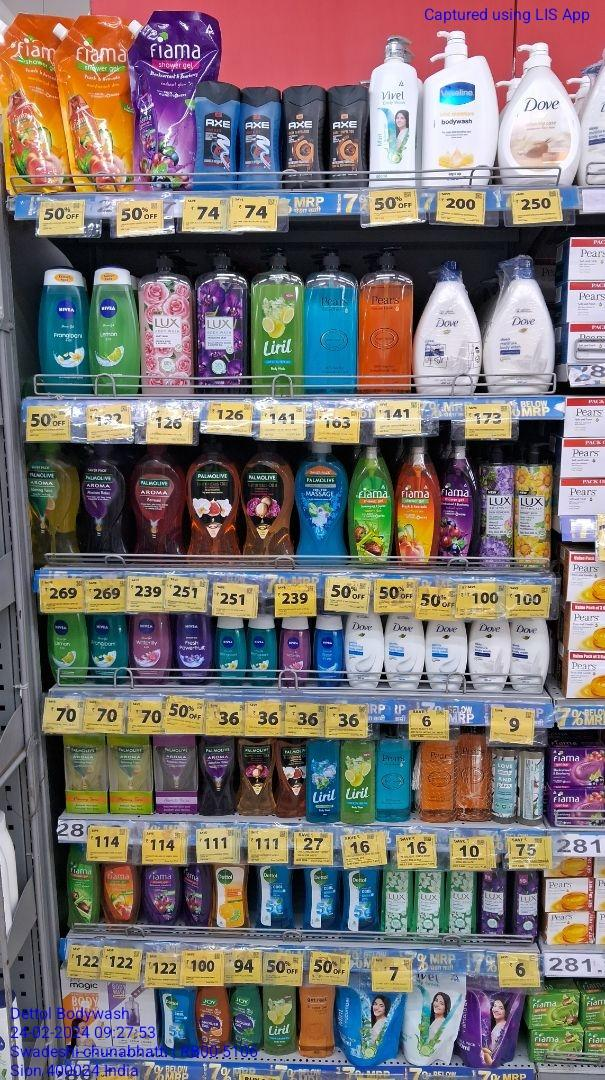Dettol_Bodywash_Cool: (157, 987, 200, 1058), (256, 861, 295, 929), (305, 864, 342, 931), (346, 866, 379, 931)
Dettol_Bodywash_Refresh: (212, 862, 252, 929)
Dove_Deep_Moisture_Body_Wash_250ML: (470, 617, 510, 692), (512, 616, 548, 695)
Dove_Gentle_Exfoliating_Body_Wash_250ML: (346, 611, 385, 691), (426, 620, 468, 692), (387, 612, 423, 692)
Fiama_Shower_Gel_Lemongrass_and_Jojoba_250ML: (65, 847, 100, 926)
Fiama_Shower_Gel_Peach_and_Avocado_250ML: (103, 863, 141, 924)
Get_Real_Shower_Gel_Moisturising_Glycerin_300ML: (298, 987, 336, 1058)
Joy_Shower_Gel_Mandarin_and_Lemongrass_250ML: (198, 987, 232, 1052)
Joy_Shower_Gel_Mint_and_Eucalyptus_250ML: (234, 987, 265, 1056)
Liril_Cooling_Mint_Body_Wash_250ML: (307, 736, 339, 822)
Liril_Lime_and_Tea_Tree_Oil_Body_Wash_250ML: (341, 738, 377, 826), (264, 987, 297, 1056)
Lux_Black_Orchid_Scent_and_Juniper_Oil_Body_Wash_245ML: (509, 871, 539, 938), (478, 870, 508, 934)
Lux_Body_Wash_Skin_Detox_Freesia_Scent_and_Alove_Vera_245ML: (443, 870, 476, 935), (414, 869, 444, 939), (383, 863, 411, 937)
Nivea_Shower_Gel_Frangipani_and_Oil_250ML: (35, 268, 87, 392), (89, 610, 128, 684), (212, 616, 250, 684), (250, 616, 279, 688)
Nivea_Shower_Gel_Fresh_Powerfruit_250ML: (172, 609, 212, 682)
Nivea_Shower_Gel_Lemon_and_Oil_250ML: (88, 265, 140, 396), (42, 612, 90, 688)
Nivea_Shower_Gel_Waterlily_and_Oil_250ML: (129, 612, 169, 682), (280, 615, 312, 680)
Palmolive_Aroma_Relax_250ML: (200, 738, 235, 818)
Palmolive_Luminous_Oils_Invigorating_Macadamia_Oil_With_Peony_250ML: (238, 737, 276, 817)
Palmolive_Luminous_Oils_With_White_Orchid_Shower_Gel_250ML: (277, 738, 307, 821)
Pears_Pure_Glycerin_and_Mint_Extracts_Body_Wash_250ML: (378, 732, 413, 822)
